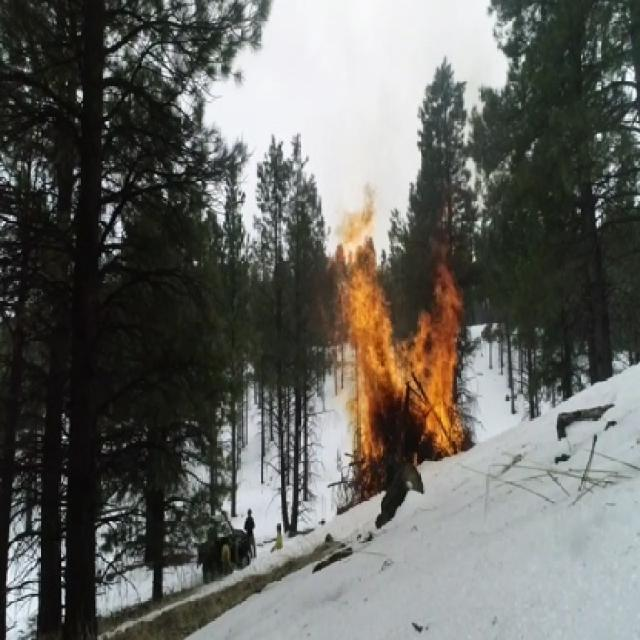Fire: (326, 178, 466, 498)
